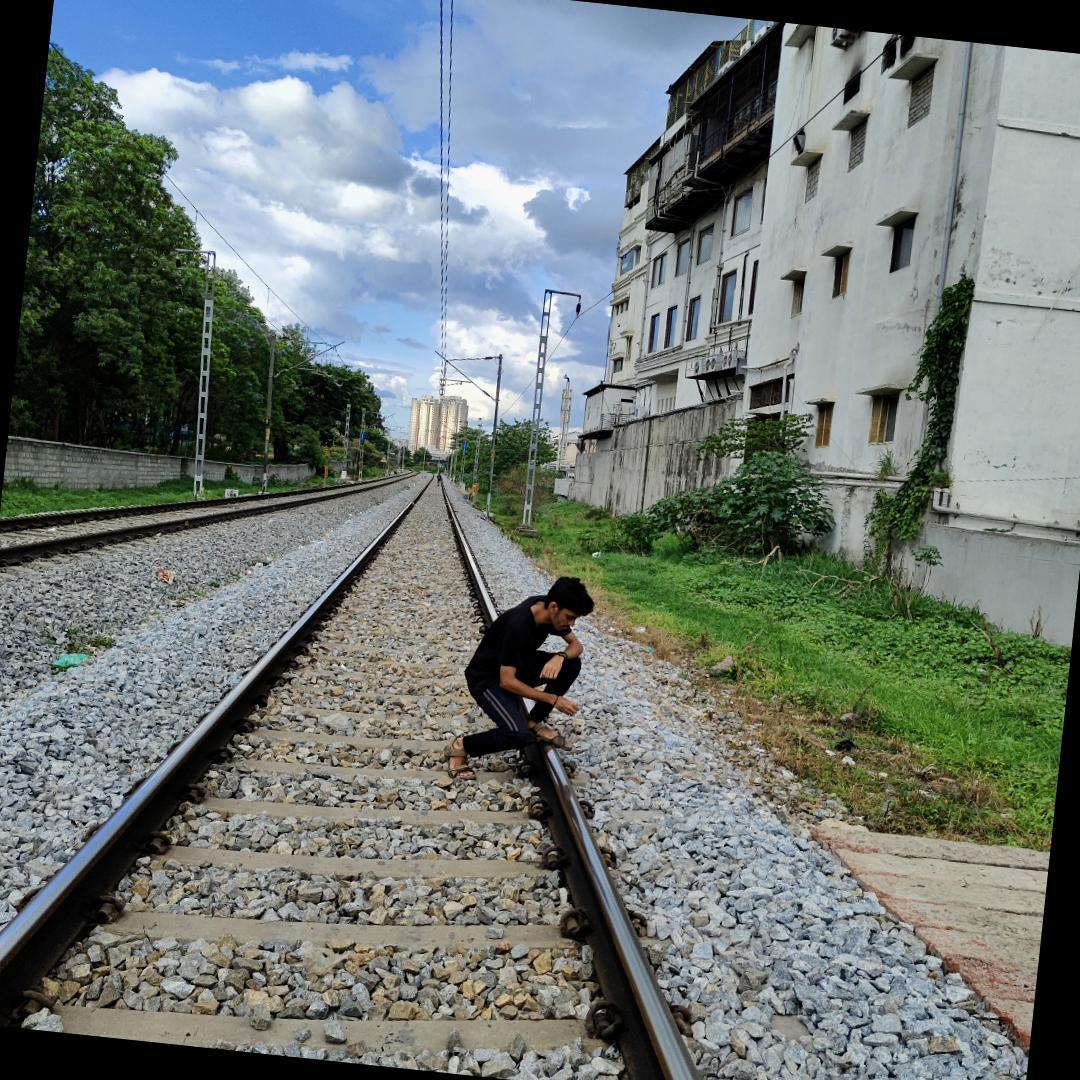sitting: (435, 560, 612, 810)
